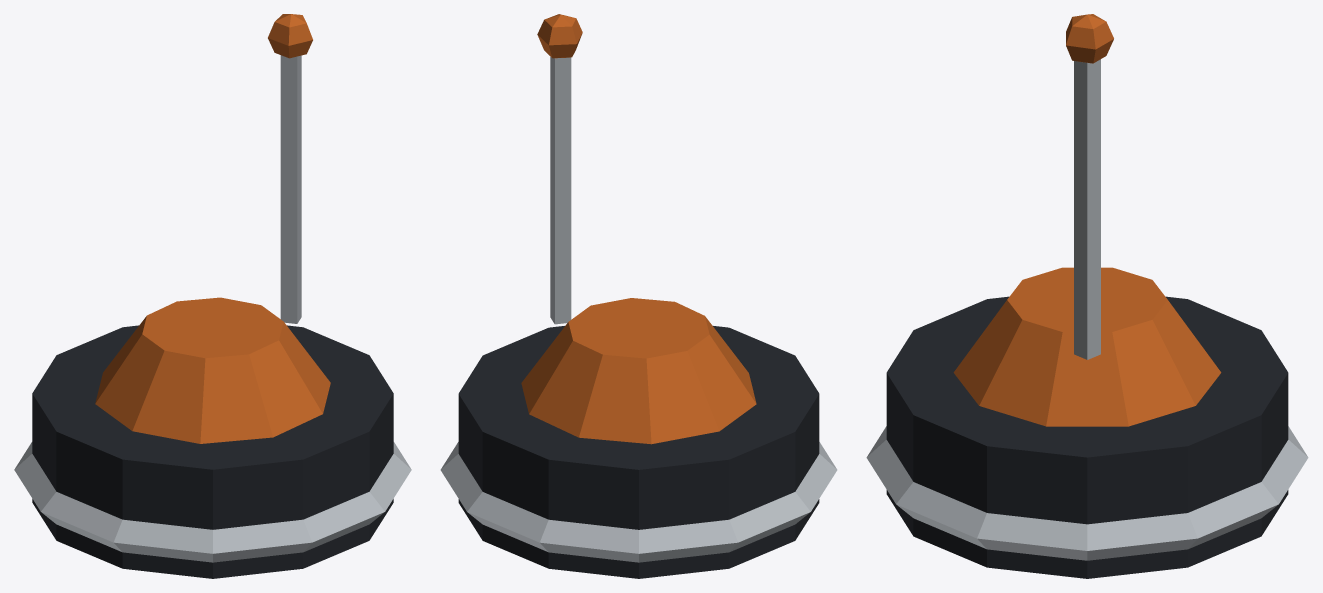
Rendered from homing-beacon.glb.
3 views of the same model, side by side, from view 1: azimuth 30°, elevation 25°; view 2: azimuth 150°, elevation 25°; view 3: azimuth 270°, elevation 25° (orthographic). The views are drawn at different scales.
Visible parts, largest first — view 1: m; view 2: m; view 3: m.
Part boxes in pixels (<box>): m: <box>14,14,411,578</box>; m: <box>440,14,837,578</box>; m: <box>866,14,1308,578</box>.
Size of the model in its own units: 0.0614 by 0.08 by 0.0614.
